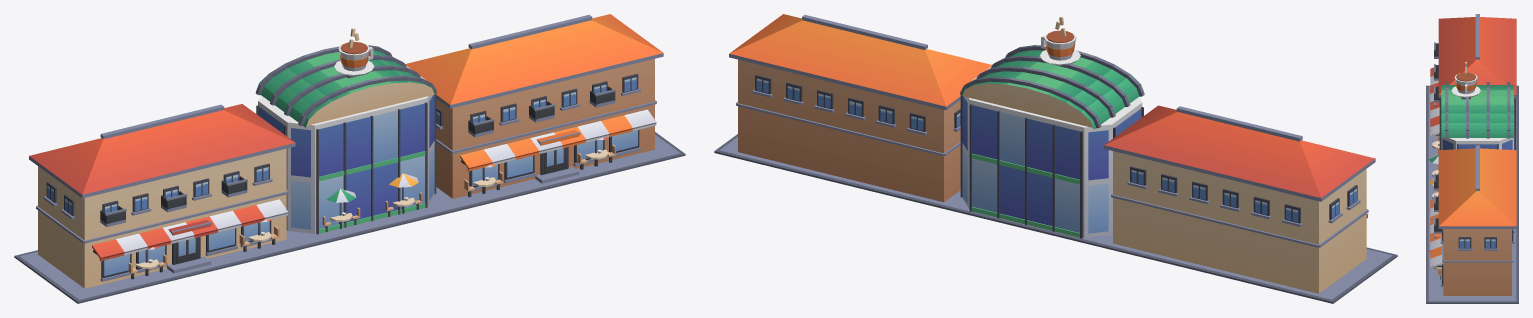
File: com_market_promenade_5x1.glb
The picture shows the model from 3 angles, left to right: view 1: azimuth 30°, elevation 25°; view 2: azimuth 150°, elevation 25°; view 3: azimuth 270°, elevation 25°; orthographic projection. The views are drawn at different scales.
Parts seen in each view (by area): view 1: com_market_promenade_5x1; view 2: com_market_promenade_5x1; view 3: com_market_promenade_5x1.
Boxes of the visible parts, x1,y1,x2,y2 form: com_market_promenade_5x1: (14,14,685,303); com_market_promenade_5x1: (714,14,1397,303); com_market_promenade_5x1: (1426,14,1518,303).
Size of the model in its own units: 9.74 by 2.78 by 1.76.
1 material, 1 textured.
